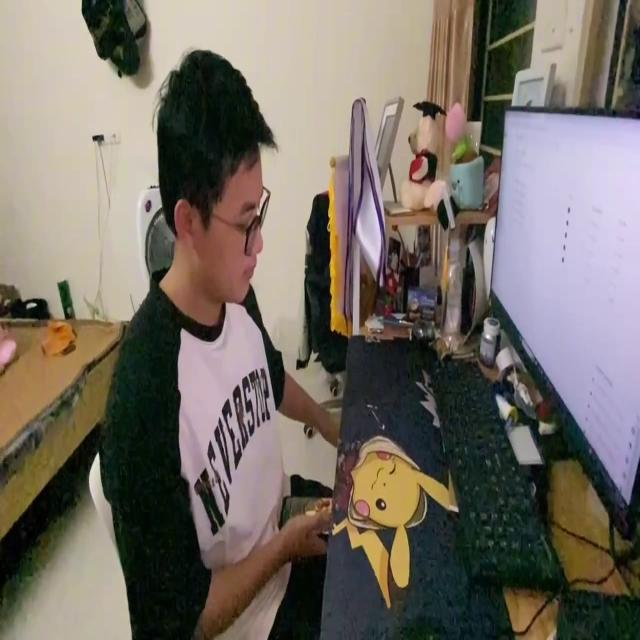laptop: (485, 98, 640, 548)
phone: (280, 486, 335, 539)
student: (98, 43, 336, 640)
